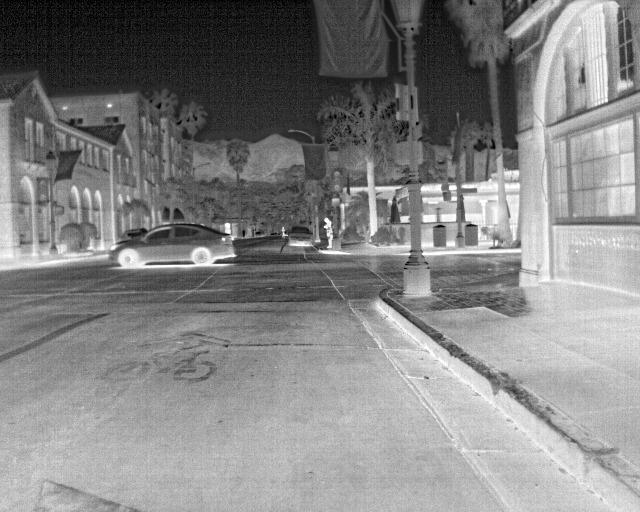bicycle: (109, 224, 238, 269), (284, 223, 314, 251), (118, 227, 149, 244)
empty: (317, 216, 336, 249)
